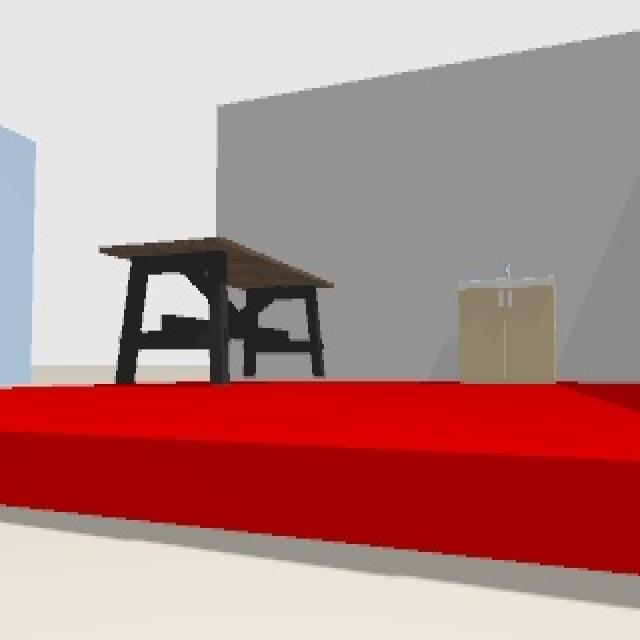dining: (99, 236, 339, 387)
